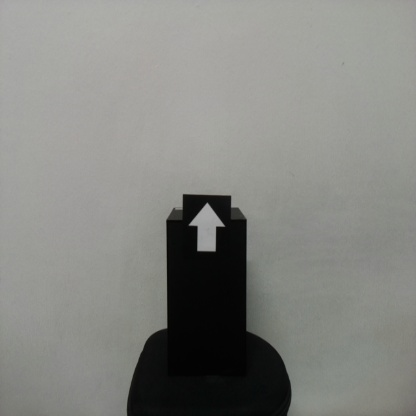id_1: (182, 195, 231, 263)
